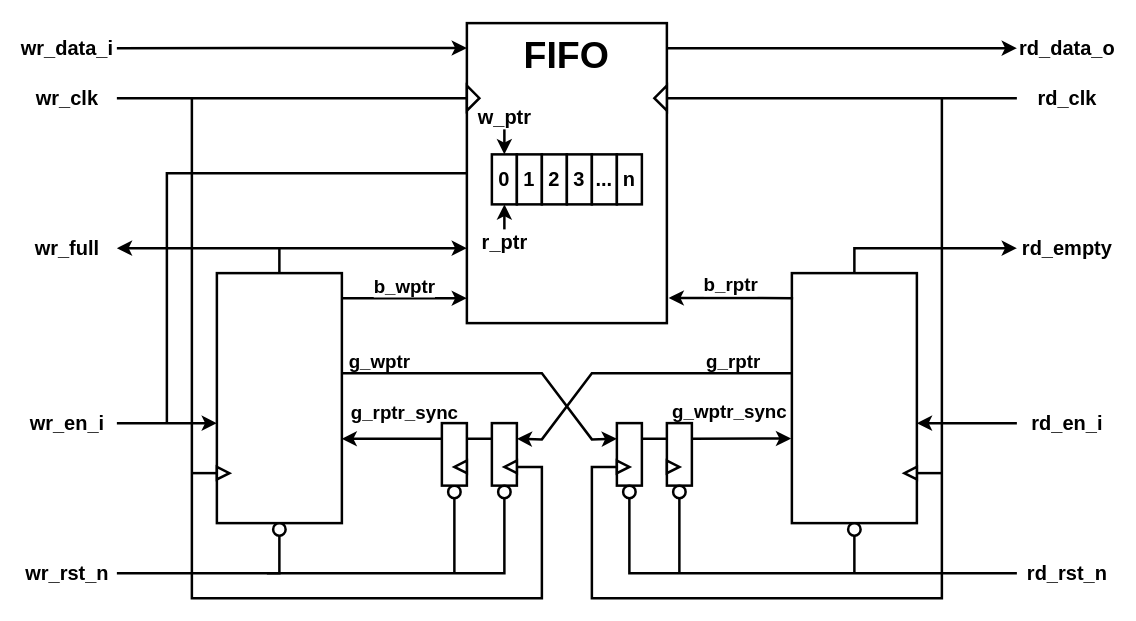
The diagram is 1136 pixels wide and 621 high, and some of its shapes have lost their labels. Each missing label, with the box of its shape:
Read pointer handler: (790, 271, 918, 524)
Write pointer handler: (215, 271, 342, 524)
